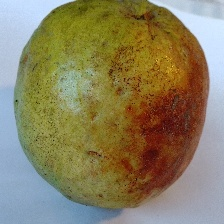guava: (16, 10, 169, 184)
